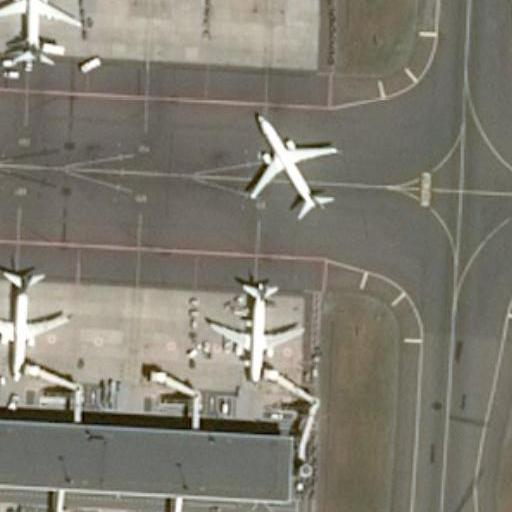Aircraft: (242, 110, 343, 220), (204, 280, 305, 379), (0, 266, 70, 371), (0, 0, 85, 70)
